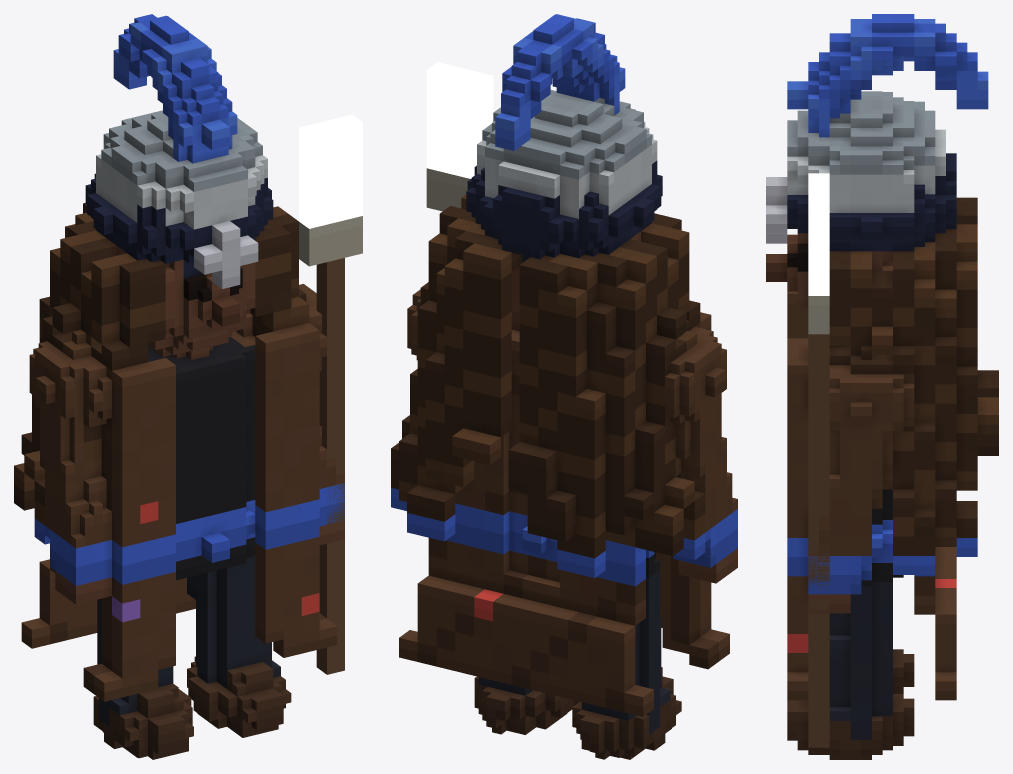
File: u_tidiane__garde.glb
3 renders of one model, left to right at view 1: azimuth 30°, elevation 25°; view 2: azimuth 150°, elevation 25°; view 3: azimuth 270°, elevation 25°, orthographic. The views are drawn at different scales.
Parts seen in each view (by area): view 1: tidiane_body, tidiane_weapon, tidiane_weaponglow; view 2: tidiane_body, tidiane_weaponglow, tidiane_weapon; view 3: tidiane_body, tidiane_weapon, tidiane_weaponglow.
Part boxes in pixels (left/top/right/bottom): tidiane_body: left=14, top=14, right=344, bottom=759; tidiane_weapon: left=299, top=216, right=362, bottom=674; tidiane_weaponglow: left=299, top=114, right=362, bottom=228; tidiane_body: left=391, top=14, right=737, bottom=759; tidiane_weaponglow: left=426, top=62, right=493, bottom=178; tidiane_weapon: left=426, top=168, right=470, bottom=211; tidiane_body: left=766, top=14, right=998, bottom=759; tidiane_weapon: left=808, top=296, right=829, bottom=747; tidiane_weaponglow: left=808, top=173, right=829, bottom=295.
Bounding box in the file's own units: 0.825 × 1.85 × 0.55.
